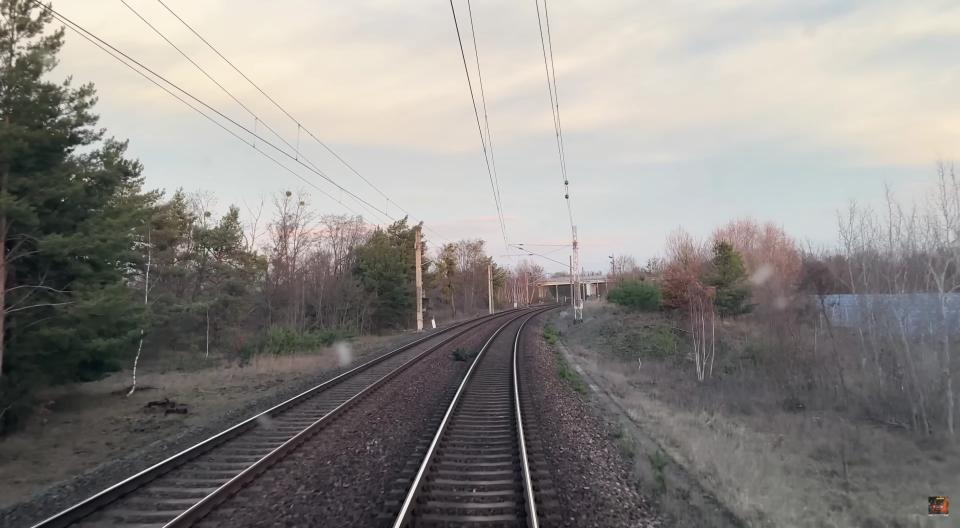Plant: (610, 423, 743, 528), (555, 352, 588, 395), (542, 323, 562, 344), (452, 348, 474, 362)
